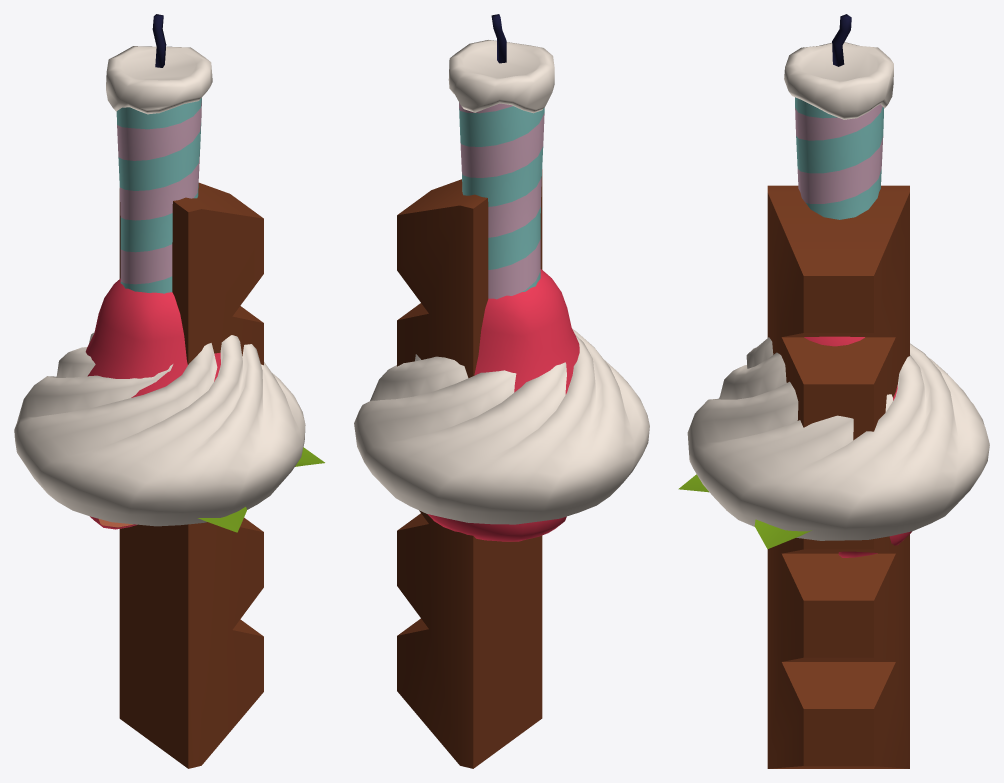
The model's file is CakeDecor.fbx.
3 views of the same model, side by side, from view 1: azimuth 30°, elevation 25°; view 2: azimuth 150°, elevation 25°; view 3: azimuth 270°, elevation 25° (orthographic). The views are drawn at different scales.
Parts seen in each view (by area): view 1: Chocolate, Kiss02, Candle01, StrawBerry; view 2: Chocolate, Kiss02, Candle01, StrawBerry, StrawBerryHalf; view 3: Chocolate, Kiss02, Candle01, StrawBerry.
Part boxes in pixels (left/top/right/bottom): Chocolate: left=119, top=182, right=263, bottom=768; Kiss02: left=14, top=332, right=305, bottom=526; Candle01: left=106, top=14, right=212, bottom=293; StrawBerry: left=85, top=278, right=324, bottom=532; Chocolate: left=397, top=169, right=542, bottom=768; Kiss02: left=354, top=328, right=649, bottom=524; Candle01: left=448, top=14, right=554, bottom=299; StrawBerry: left=474, top=269, right=579, bottom=394; StrawBerryHalf: left=427, top=514, right=566, bottom=541; Chocolate: left=767, top=185, right=909, bottom=768; Kiss02: left=687, top=337, right=989, bottom=540; Candle01: left=784, top=14, right=893, bottom=219; StrawBerry: left=678, top=336, right=897, bottom=549.
Bounding box in the file's own units: 229 × 615 × 232.
